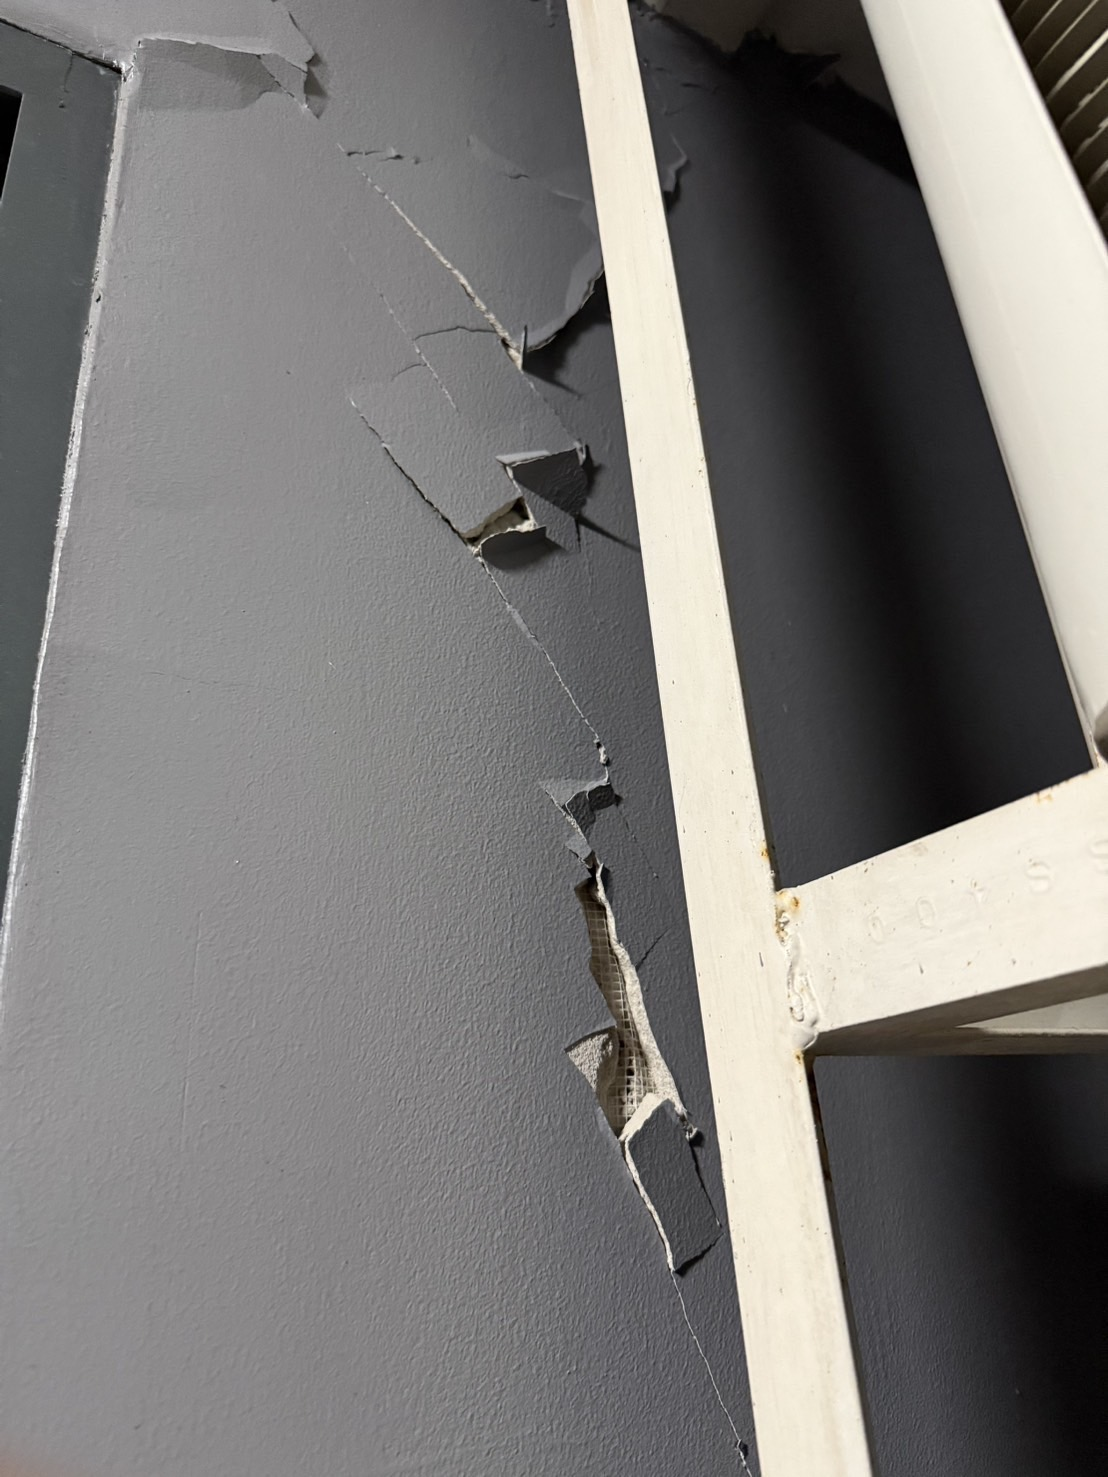Medium: (367, 166, 723, 1221)
